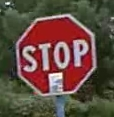stop: (11, 12, 99, 97)
